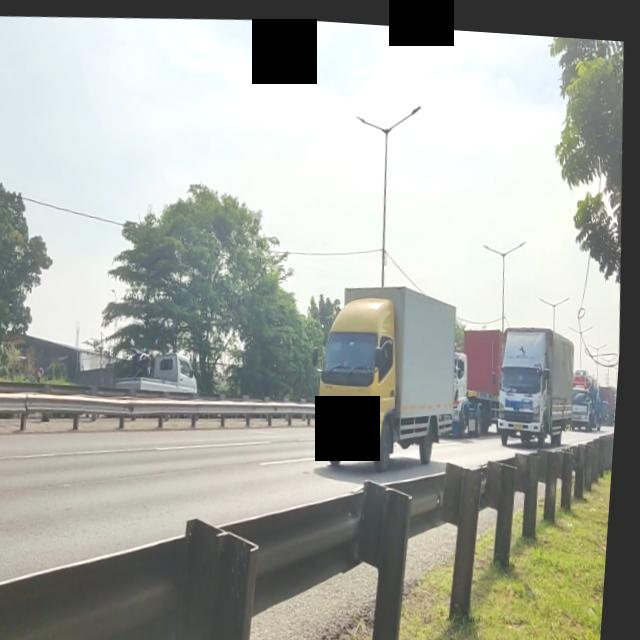Golongan II: (308, 268, 473, 475)
